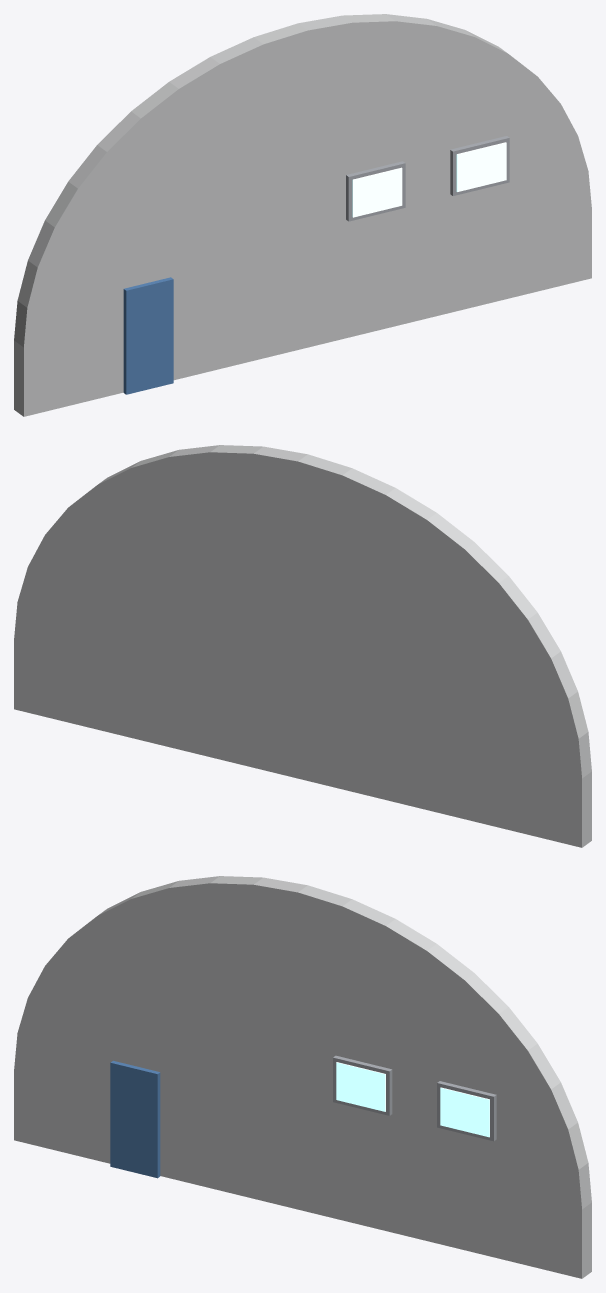
The model's file is aircraft-fleet-and-airfield-hangar-rear-wall-7b387fe9__32819.glb.
The picture shows the model from 3 angles, top to bottom: view 1: azimuth 30°, elevation 25°; view 2: azimuth 150°, elevation 25°; view 3: azimuth 330°, elevation 25°; orthographic projection.
Visible parts, largest first — view 1: hangar-rear-wall; view 2: hangar-rear-wall; view 3: hangar-rear-wall.
Boxes of the visible parts, x1,y1,x2,y2 form: hangar-rear-wall: [14, 14, 591, 416]; hangar-rear-wall: [14, 445, 591, 847]; hangar-rear-wall: [14, 876, 591, 1278].
Size of the model in its own units: 12 by 6.4 by 0.4902.
